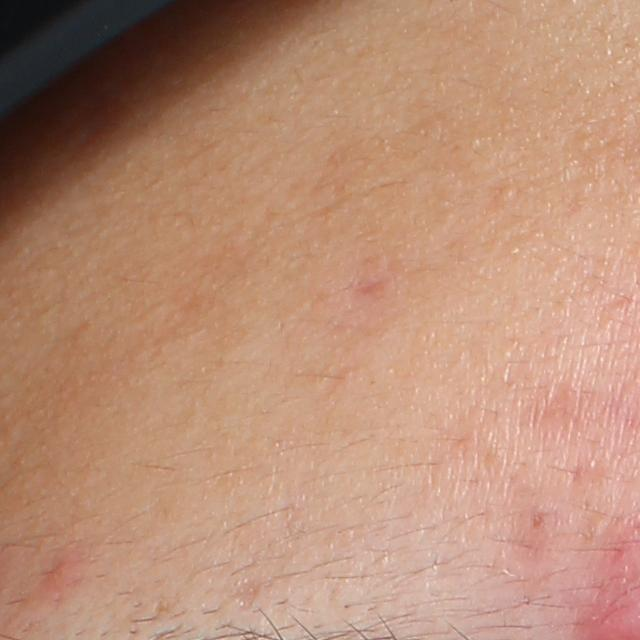atrophic_scar: (236, 577, 261, 614)
comedo: (524, 512, 548, 532), (499, 185, 518, 205)
